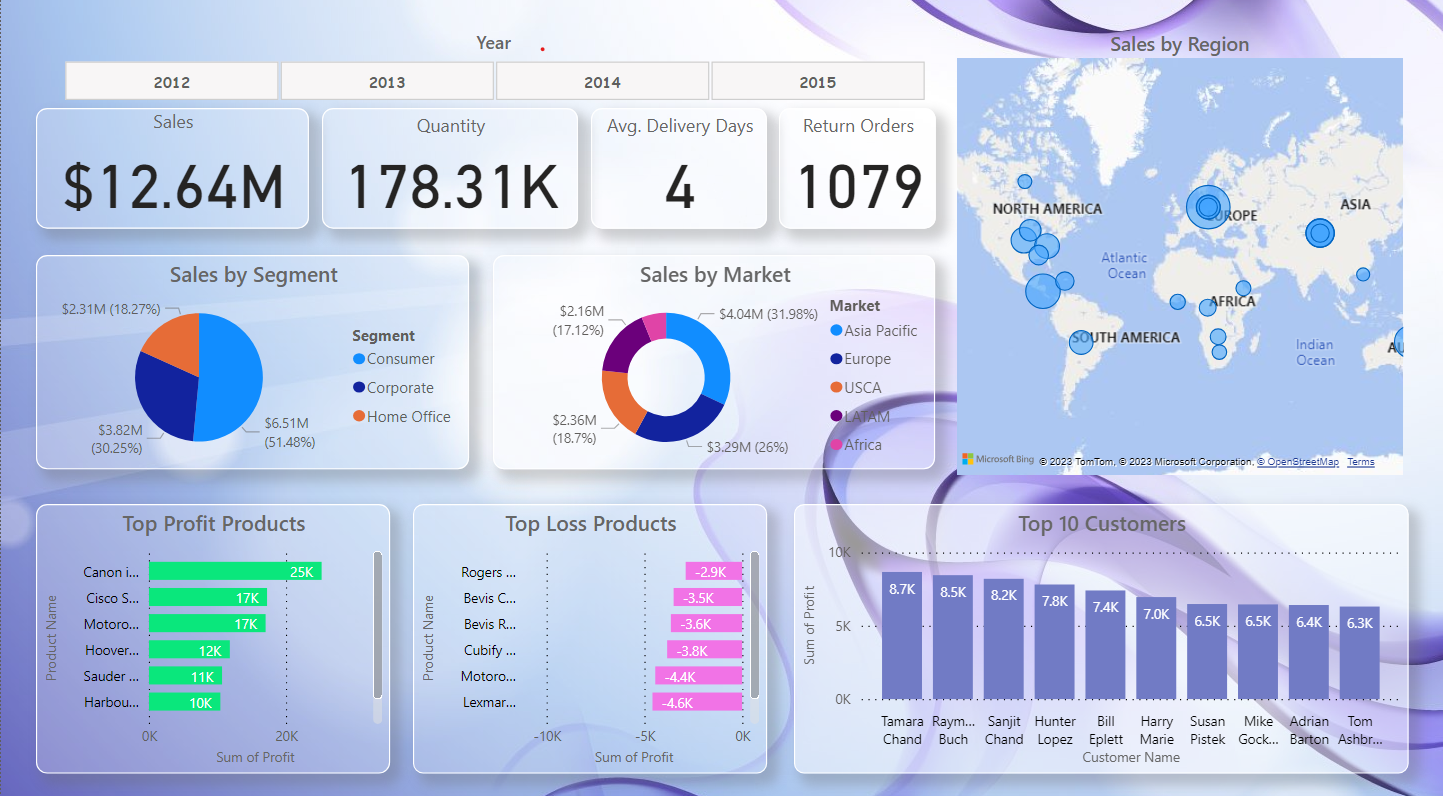

Layout of this report page (visuals, bound fields, positions):
{"tool":"powerbi","page":{"name":"Page 1","canvas":[1280,720],"ordinal":0},"visuals":[{"type":"card","title":"Sales","fields":{"Values":["Orders.Sales"]},"box":[30.7,100.1,241.6,106.8],"z":0},{"type":"card","title":"Quantity","fields":{"Values":["Orders.Quantity"]},"box":[284.3,100.1,226.9,106.8],"z":1000},{"type":"card","title":"Avg. Delivery Days","fields":{"Values":["Orders. Delivery Days"]},"box":[523.2,100.1,156.2,106.8],"z":2000},{"type":"slicer","title":"Year","fields":{"Values":["Orders.Year"]},"box":[30.7,30.7,811.5,69.4],"z":3000},{"type":"card","title":"Return Orders","fields":{"Values":["Returns.Custom"]},"box":[690.1,100.1,138.8,106.8],"z":4000},{"type":"map","title":"Sales by Region","fields":{"Category":["Orders.Region"],"Size":["Orders.Sales"]},"box":[842.2,30.7,405.8,400.4],"z":5000},{"type":"clusteredBarChart","title":"Top Profit Products ","fields":{"Category":["Orders.Product Name"],"Y":["Orders.Profit"]},"box":[30.7,451.1,313.7,238.9],"z":5001},{"type":"clusteredBarChart","title":"Top Loss Products ","fields":{"Category":["Orders.Product Name"],"Y":["Orders.Profit"]},"box":[365.7,451.1,313.7,238.9],"z":5002},{"type":"pieChart","title":"Sales by Segment","fields":{"Category":["Orders.Segment"],"Y":["Orders.Sales"]},"box":[30.7,230.9,384.4,189.5],"z":5003},{"type":"donutChart","title":"Sales by Market","fields":{"Category":["Orders.Market"],"Y":["Orders.Sales"]},"box":[436.5,230.9,392.4,189.5],"z":5004},{"type":"columnChart","title":"Top 10 Customers ","fields":{"Category":["Orders.Customer Name"],"Y":["Orders.Profit"]},"box":[703.4,451.1,544.6,238.9],"z":5005}]}

Visuals, with their boxes in screenshot pixels (x1, y1, x2, y2), scaled from the page's 1280x720 canvas onto the 1443x796 screenshot:
"Sales" card: box=[35, 111, 307, 229]
"Quantity" card: box=[321, 111, 576, 229]
"Avg. Delivery Days" card: box=[590, 111, 766, 229]
"Year" slicer: box=[35, 34, 949, 111]
"Return Orders" card: box=[778, 111, 934, 229]
"Sales by Region" map: box=[949, 34, 1407, 477]
"Top Profit Products " clusteredBarChart: box=[35, 499, 388, 763]
"Top Loss Products " clusteredBarChart: box=[412, 499, 766, 763]
"Sales by Segment" pieChart: box=[35, 255, 468, 465]
"Sales by Market" donutChart: box=[492, 255, 934, 465]
"Top 10 Customers " columnChart: box=[793, 499, 1407, 763]
